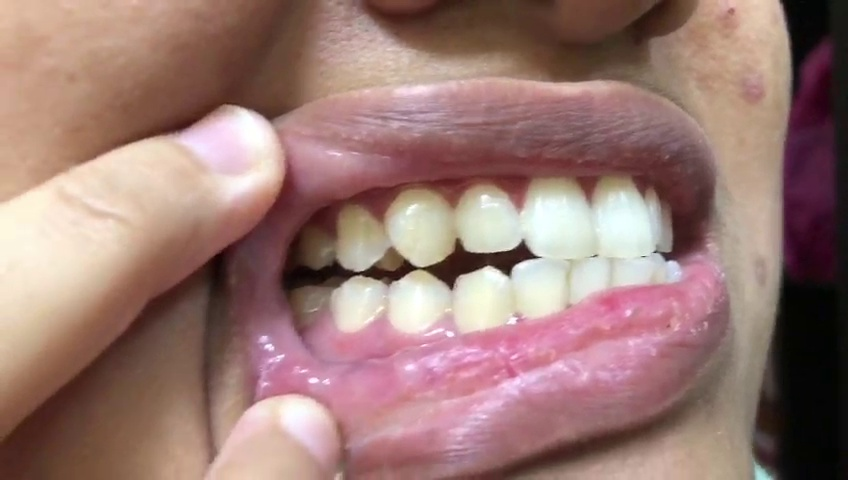1st Molar: (288, 282, 328, 328)
1st Premolar: (389, 269, 452, 335), (337, 202, 390, 274)
2nd Premolar: (330, 274, 388, 334), (298, 220, 336, 267)
Canine: (383, 185, 455, 267), (455, 265, 516, 333)
Central Incisor: (523, 171, 598, 261), (590, 170, 654, 257)
Lateral Incisor: (454, 182, 526, 253), (510, 256, 572, 319)
